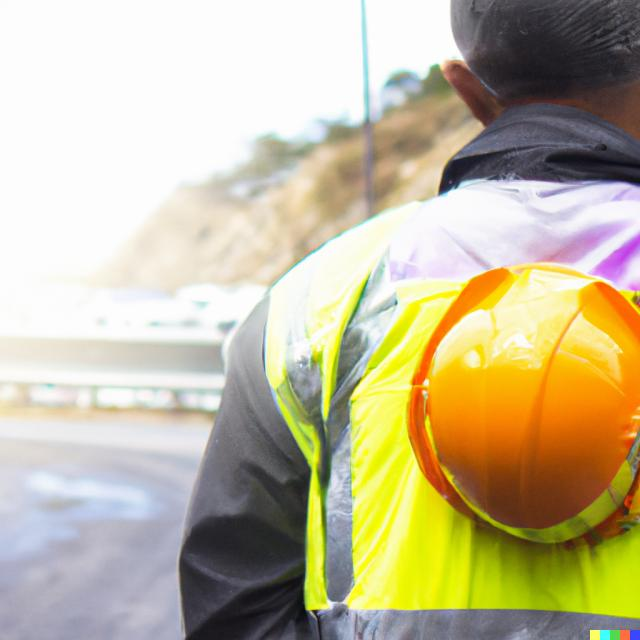Reflective-Jacket: (250, 170, 640, 635)
Safety-Helmet: (393, 261, 640, 556)
